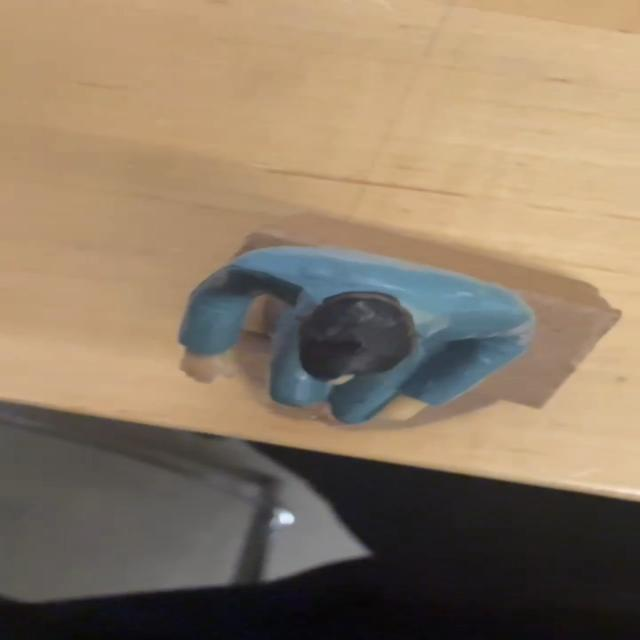Authorized: (67, 219, 640, 474)
